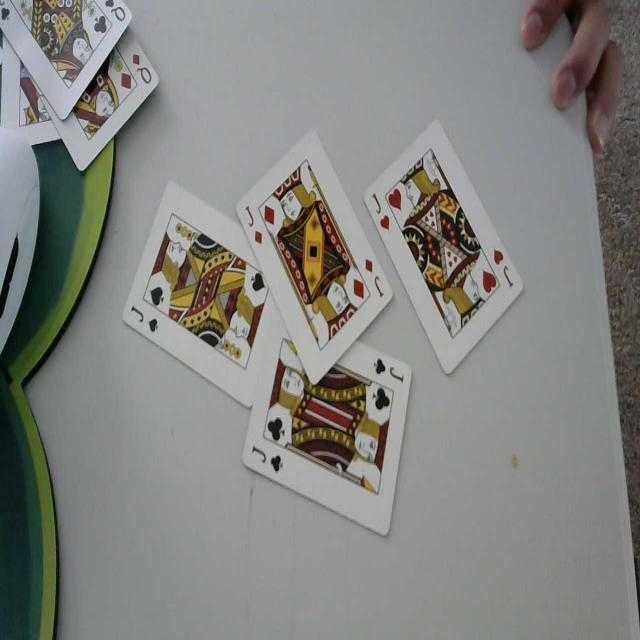JC: (251, 442, 285, 474), (372, 356, 407, 386)
JD: (362, 254, 384, 299), (245, 201, 266, 247)
JH: (492, 246, 516, 294), (371, 189, 392, 236)
JS: (128, 302, 160, 335)
QD: (129, 51, 154, 88)
